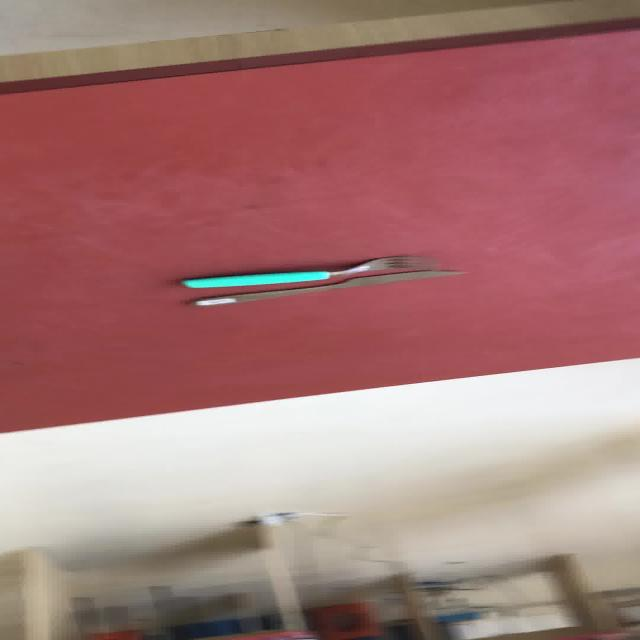fork: (178, 254, 436, 288)
knife fork: (188, 268, 466, 307)
